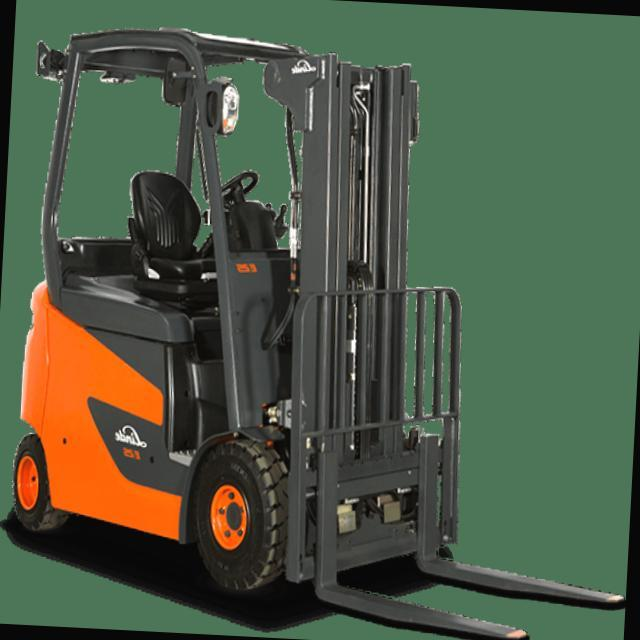forklift: (2, 10, 504, 628)
